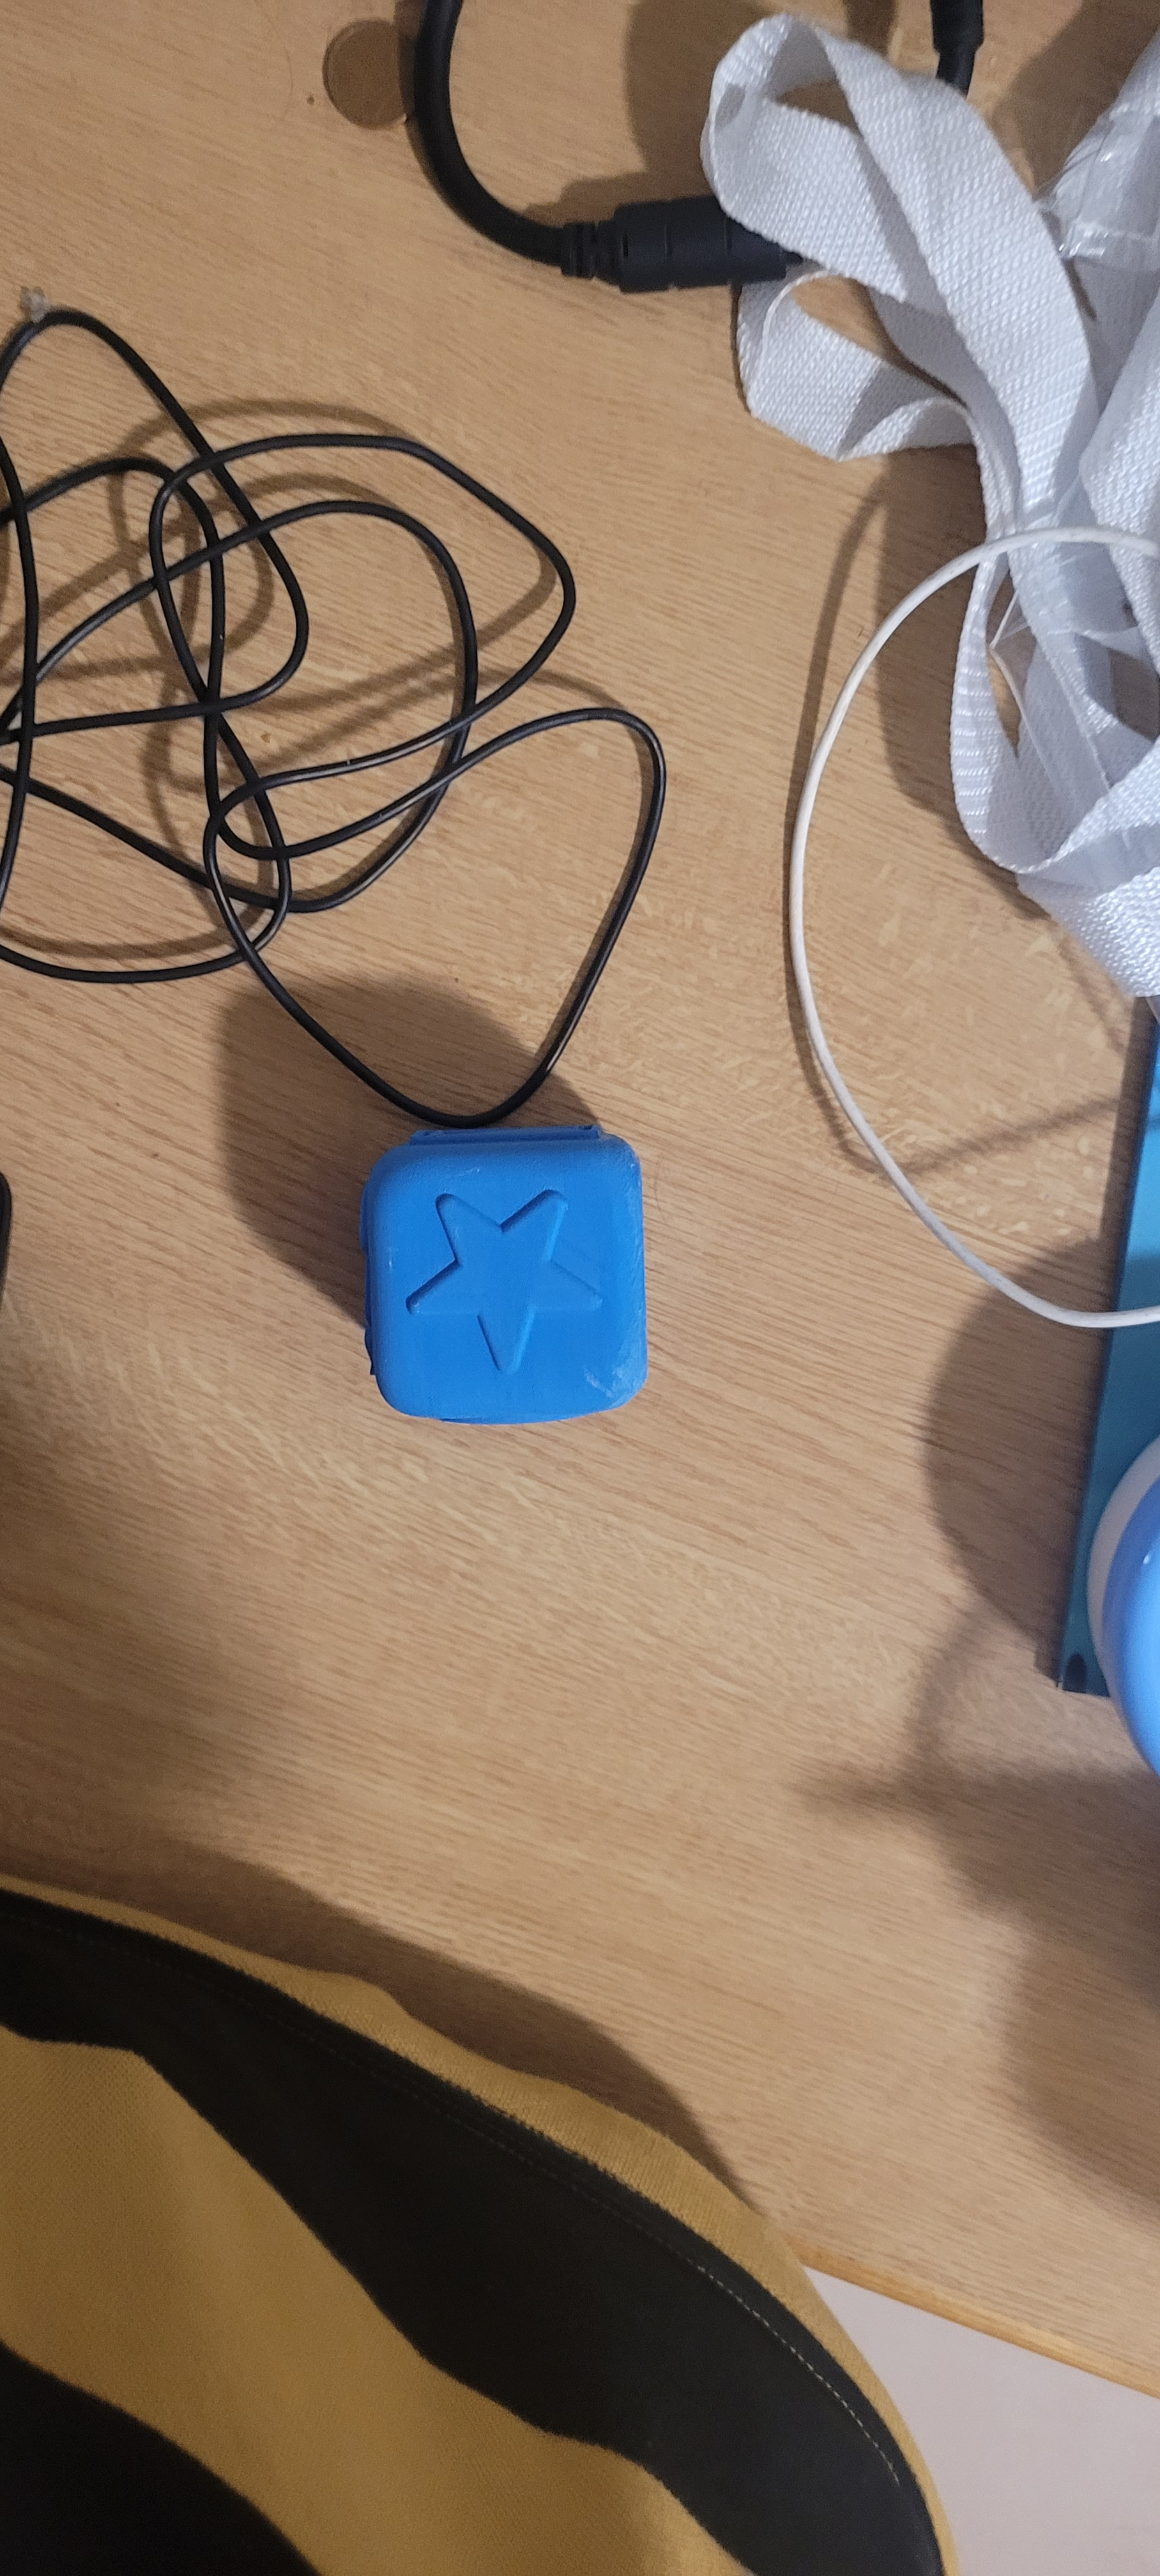Star: (396, 1188, 646, 1380)
